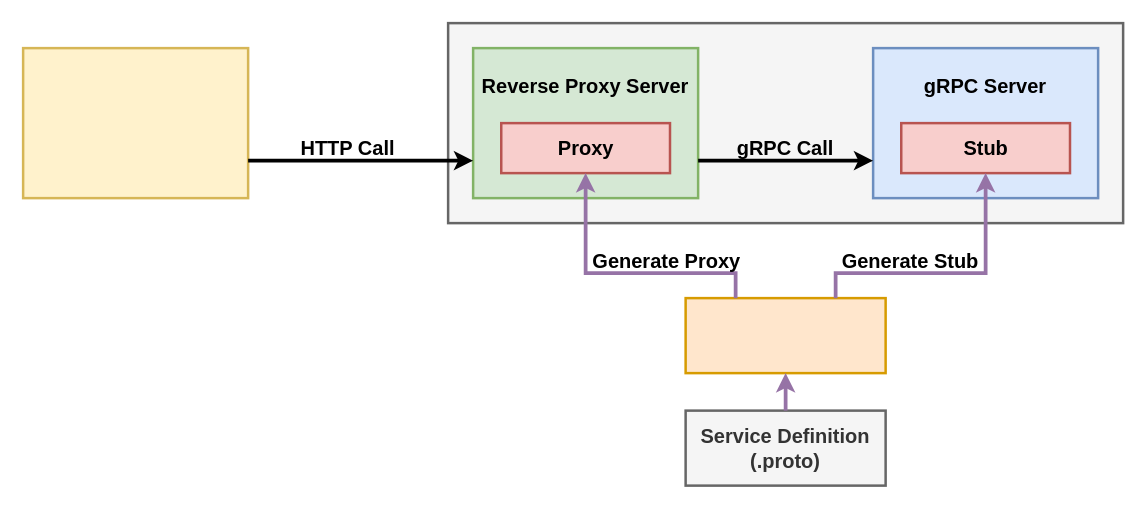
The diagram is 1145 pixels wide and 508 high, and some of its shapes have lost their labels. Each missing label, with the centre of its shape:
"HTTP Client" belongs at (135,122).
"Protocol Buffer Compiler" belongs at (785,335).
